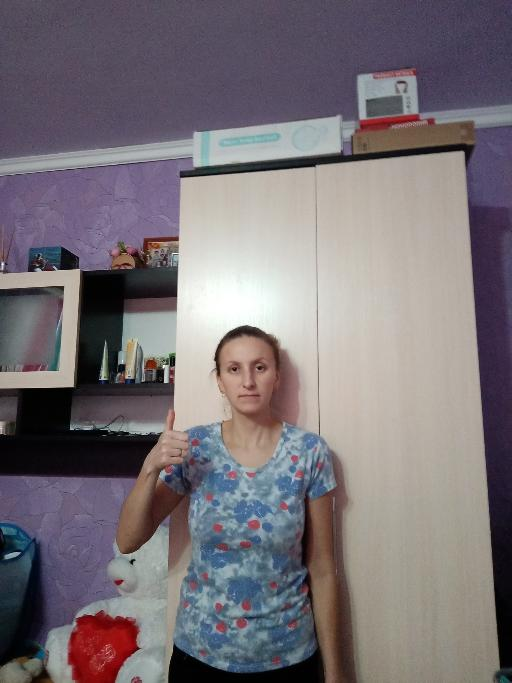like: (149, 406, 192, 471)
